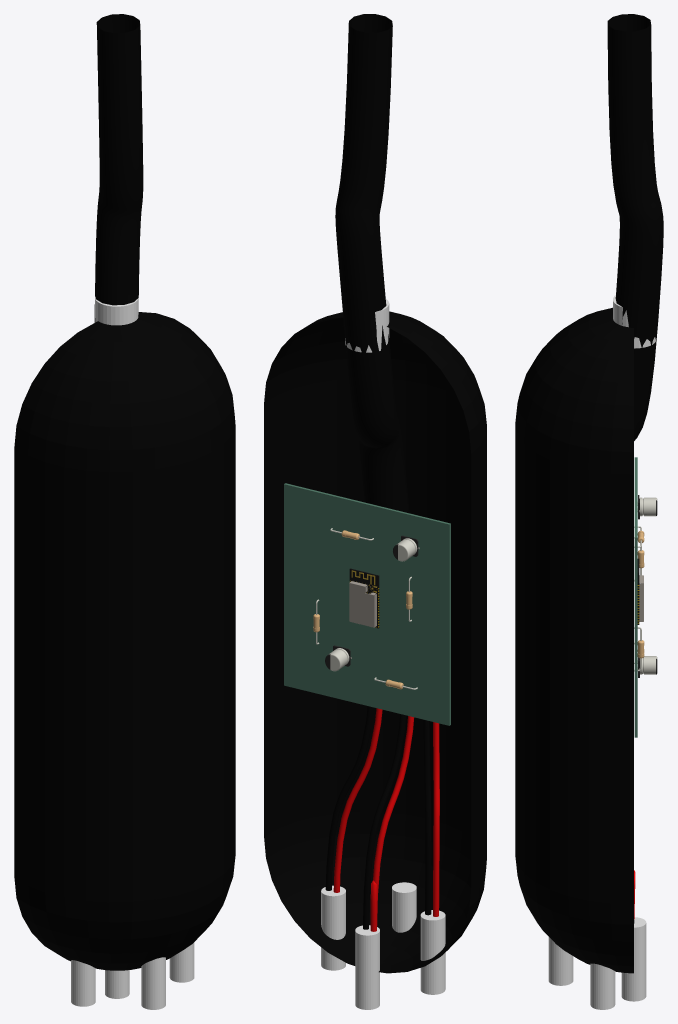
File: Underwater_Device_Half.glb
The picture shows the model from 3 angles, left to right: view 1: azimuth 30°, elevation 25°; view 2: azimuth 150°, elevation 25°; view 3: azimuth 270°, elevation 25°; orthographic projection.
Parts seen in each view (by area): view 1: Case, BézierCurve.006, Cylinder.004, Cylinder; view 2: Case, =>[0:1:1:5], BézierCurve.006, Cylinder.004, BézierCurve, BézierCurve.001, BézierCurve.002, BézierCurve.003, BézierCurve.005, BézierCurve.004, NAUO2, Cylinder (+1 smaller); view 3: Case, BézierCurve.006, Cylinder.004, =>[0:1:1:5], Cylinder, REF**, REF**.003.
Part boxes in pixels (bbox=[...]): Case: bbox=[14, 312, 235, 970]; BézierCurve.006: bbox=[94, 14, 143, 322]; Cylinder.004: bbox=[71, 942, 194, 1009]; Cylinder: bbox=[95, 296, 138, 325]; Case: bbox=[264, 311, 486, 973]; =>[0:1:1:5]: bbox=[284, 483, 450, 725]; BézierCurve.006: bbox=[335, 14, 409, 513]; Cylinder.004: bbox=[321, 882, 445, 1009]; BézierCurve: bbox=[370, 716, 414, 931]; BézierCurve.001: bbox=[363, 714, 406, 929]; BézierCurve.002: bbox=[423, 719, 431, 915]; BézierCurve.003: bbox=[433, 722, 439, 916]; BézierCurve.005: bbox=[325, 706, 373, 890]; BézierCurve.004: bbox=[333, 708, 382, 892]; NAUO2: bbox=[349, 581, 376, 627]; Cylinder: bbox=[345, 299, 389, 352]; Case: bbox=[515, 307, 633, 973]; BézierCurve.006: bbox=[607, 14, 663, 440]; Cylinder.004: bbox=[548, 917, 646, 1009]; =>[0:1:1:5]: bbox=[634, 457, 637, 737]; Cylinder: bbox=[613, 295, 655, 348]; REF**: bbox=[637, 495, 657, 519]; REF**.003: bbox=[637, 656, 657, 677].
Bounding box in the file's own units: 0.7462 × 3.37 × 0.4666.
